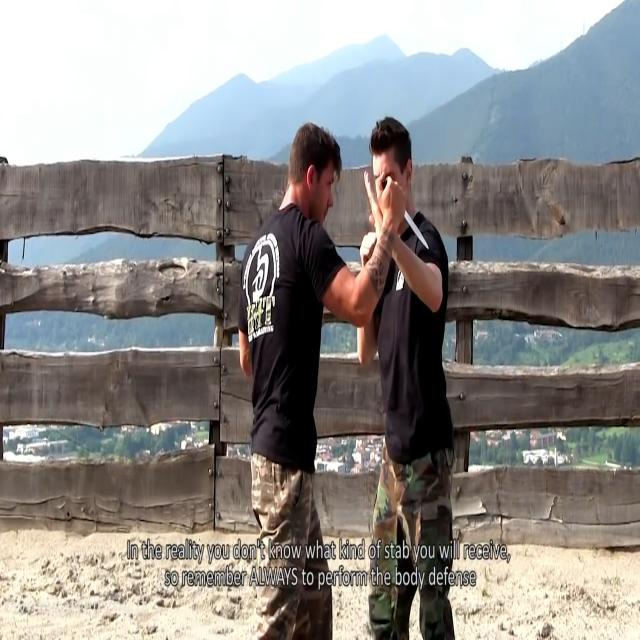knife: (408, 207, 434, 260)
